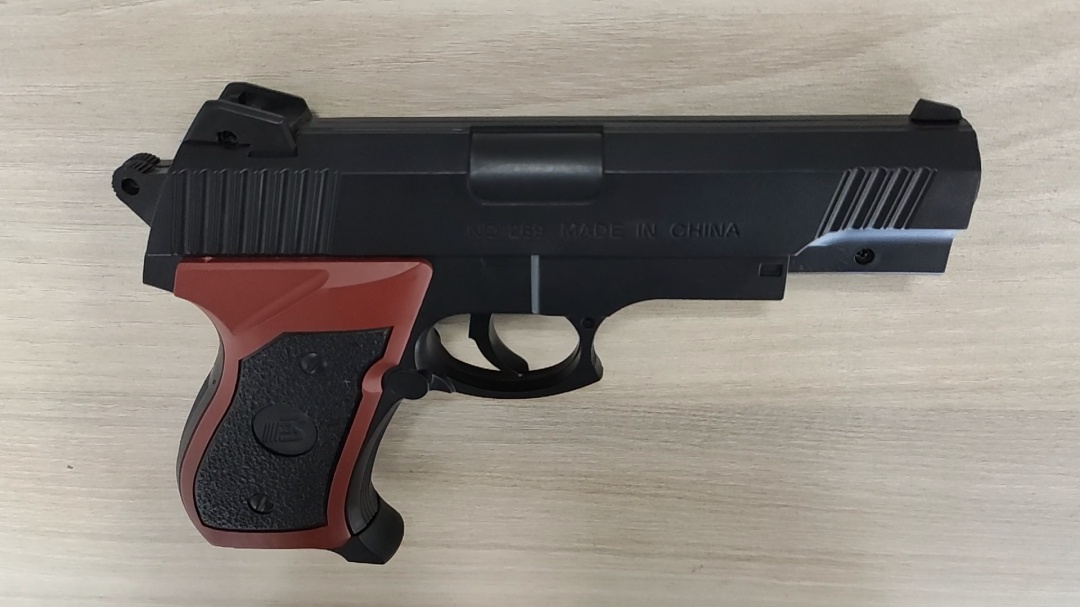gun: (113, 82, 982, 565)
